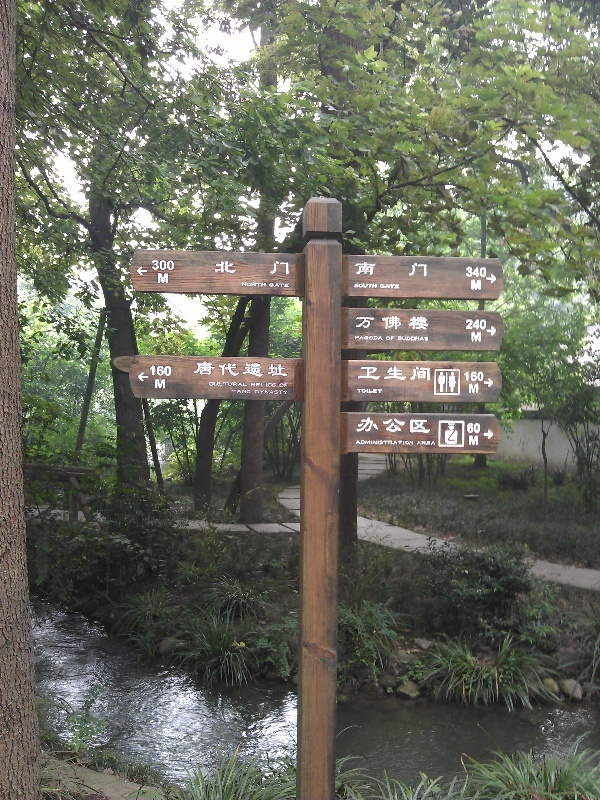text: (369, 365, 384, 383), (385, 365, 400, 383), (401, 365, 416, 383), (417, 365, 432, 383), (369, 417, 384, 435), (385, 417, 400, 435), (401, 417, 416, 435), (209, 361, 224, 379), (225, 361, 240, 379), (241, 361, 256, 379), (257, 361, 272, 379), (273, 361, 288, 379), (417, 417, 431, 435), (194, 361, 208, 379), (369, 262, 384, 278), (385, 262, 400, 278), (401, 262, 416, 278), (225, 260, 240, 275), (241, 260, 256, 275), (257, 260, 272, 275), (273, 260, 288, 275), (369, 315, 384, 330), (385, 315, 400, 330), (401, 315, 416, 330), (356, 417, 368, 435), (355, 262, 368, 278), (466, 265, 480, 279), (356, 315, 368, 330), (417, 315, 429, 330), (358, 365, 368, 383), (417, 262, 428, 278), (161, 260, 175, 272), (465, 319, 480, 330), (465, 371, 480, 382), (467, 423, 480, 435), (161, 365, 173, 377), (215, 260, 224, 275), (469, 384, 480, 395), (469, 435, 480, 446), (150, 365, 160, 377), (471, 279, 480, 291), (471, 332, 480, 343), (481, 265, 488, 279), (242, 281, 256, 288), (152, 260, 160, 272), (385, 284, 401, 290), (369, 440, 384, 446), (385, 440, 400, 446), (369, 335, 384, 341), (273, 283, 288, 289), (401, 336, 416, 342), (257, 382, 272, 388), (257, 390, 272, 396), (273, 390, 288, 396), (161, 273, 169, 284), (401, 440, 415, 446), (354, 283, 368, 289), (386, 336, 400, 342), (355, 335, 368, 341), (209, 382, 224, 387), (225, 382, 240, 387), (417, 441, 432, 446), (356, 440, 368, 446), (417, 336, 429, 342), (257, 281, 267, 288), (369, 389, 383, 394), (481, 319, 487, 330), (154, 379, 160, 389), (241, 389, 252, 394), (357, 389, 368, 394), (369, 283, 378, 289), (161, 379, 166, 389), (230, 389, 240, 394), (481, 371, 485, 382), (280, 383, 288, 388), (241, 382, 248, 387), (379, 284, 384, 290), (251, 382, 256, 388), (481, 279, 483, 291), (273, 382, 277, 388), (158, 273, 160, 284), (481, 332, 483, 343), (269, 283, 272, 289), (397, 336, 400, 342), (289, 260, 290, 275), (433, 441, 436, 446), (481, 423, 482, 435), (289, 283, 290, 289), (255, 390, 256, 396)
